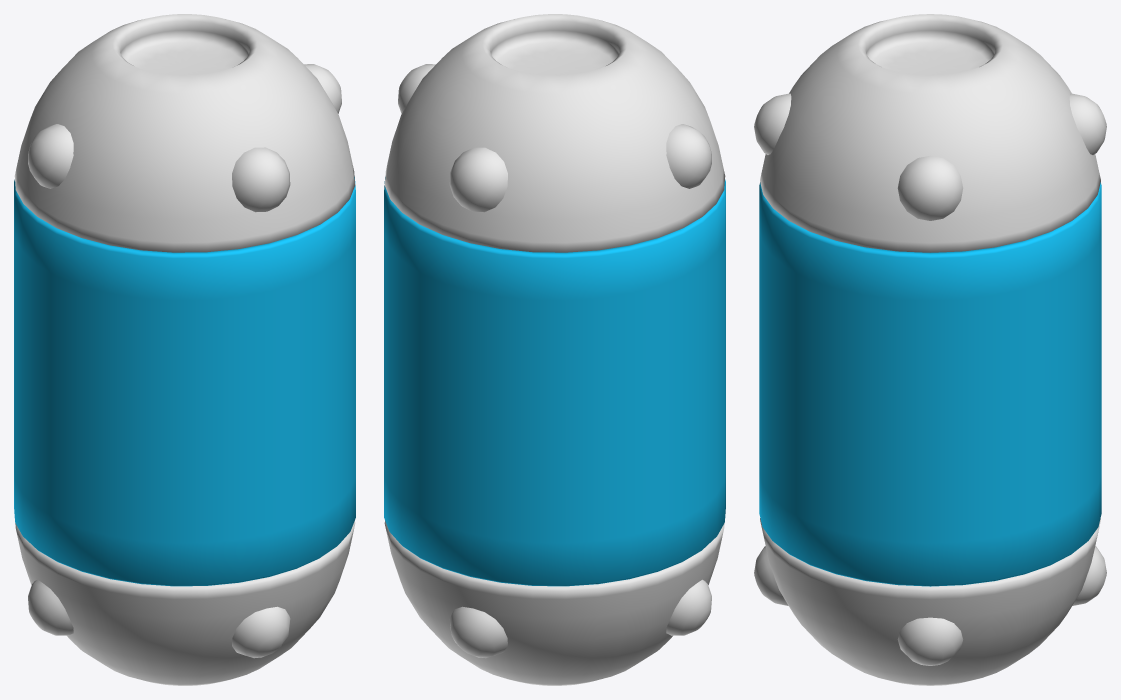
3 renders of one model, left to right at view 1: azimuth 30°, elevation 25°; view 2: azimuth 150°, elevation 25°; view 3: azimuth 270°, elevation 25°, orthographic.
Visible parts, largest first — view 1: Capsule_Glass, Capsule_Body; view 2: Capsule_Glass, Capsule_Body; view 3: Capsule_Glass, Capsule_Body.
Boxes of the visible parts, box(x1,y1,x2,y2) form: Capsule_Glass: box(14, 177, 355, 586); Capsule_Body: box(14, 14, 355, 685); Capsule_Glass: box(384, 177, 725, 586); Capsule_Body: box(384, 14, 725, 685); Capsule_Glass: box(759, 182, 1101, 586); Capsule_Body: box(754, 14, 1106, 685).
Size of the model in its own units: 202 by 386 by 202.
